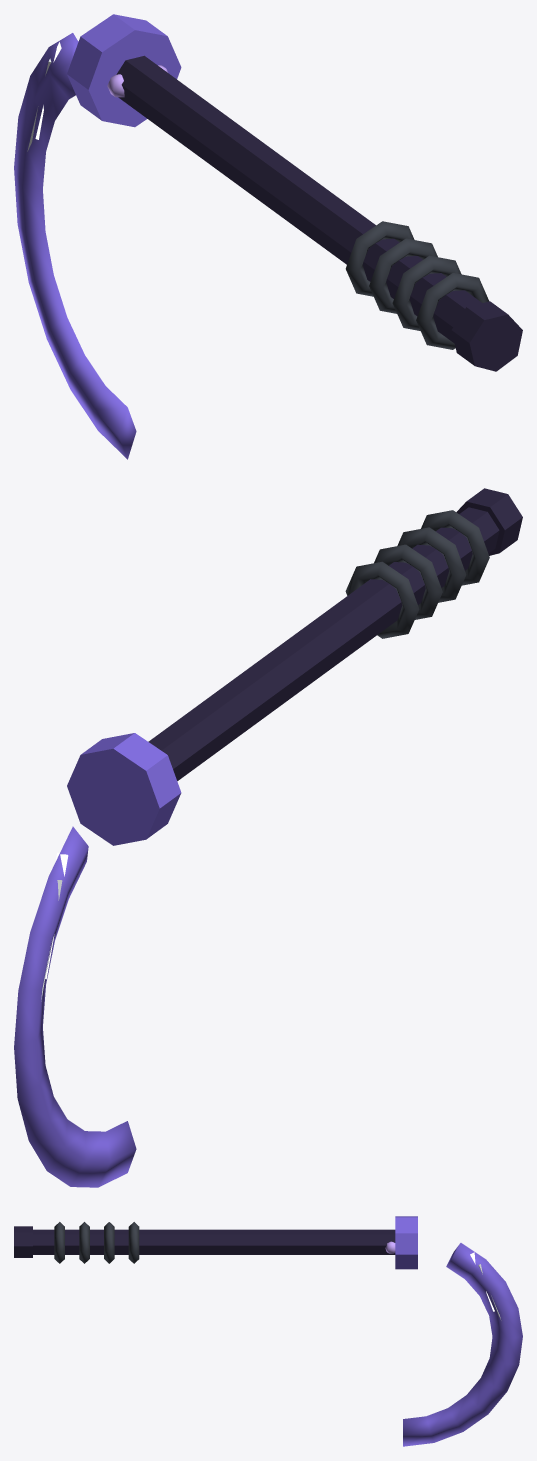
Rendered from Tool_Sickle_Starlight.fbx.
3 views of the same model, one above another, from view 1: azimuth 30°, elevation 25°; view 2: azimuth 150°, elevation 25°; view 3: azimuth 270°, elevation 25° (orthographic). The views are drawn at different scales.
Visible parts, largest first — view 1: Tool_Sickle_Starlight; view 2: Tool_Sickle_Starlight; view 3: Tool_Sickle_Starlight.
Boxes of the visible parts, x1,y1,x2,y2 form: Tool_Sickle_Starlight: (14, 14, 522, 459); Tool_Sickle_Starlight: (14, 488, 522, 1187); Tool_Sickle_Starlight: (14, 1216, 522, 1446).
Bounding box in the file's own units: 2.97 × 13.29 × 26.7.
